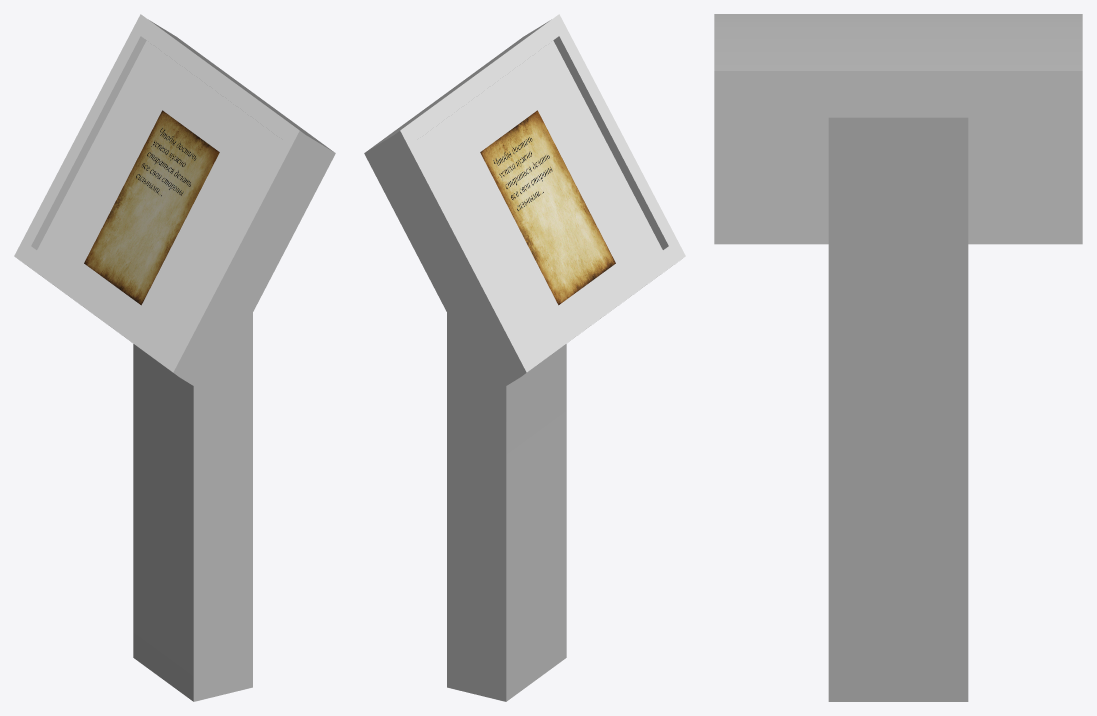
The model's file is SheetPlon (1).fbx.
3 views of the same model, side by side, from view 1: azimuth 30°, elevation 25°; view 2: azimuth 150°, elevation 25°; view 3: azimuth 270°, elevation 25° (orthographic). The views are drawn at different scales.
Parts seen in each view (by area): view 1: Box001, Plane001; view 2: Box001, Plane001; view 3: Box001.
Part boxes in pixels (x1=…): Box001: x1=14, y1=14, x2=335, y2=701; Plane001: x1=84, y1=110, x2=219, y2=305; Box001: x1=364, y1=14, x2=685, y2=701; Plane001: x1=480, y1=110, x2=615, y2=305; Box001: x1=714, y1=14, x2=1082, y2=701.
Bounding box in the file's own units: 23.31 × 81.34 × 39.53.
